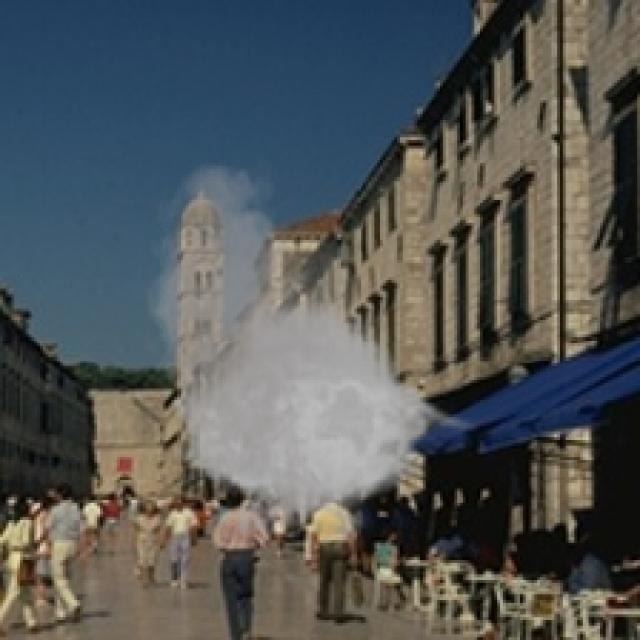smoke: (137, 157, 480, 563)
